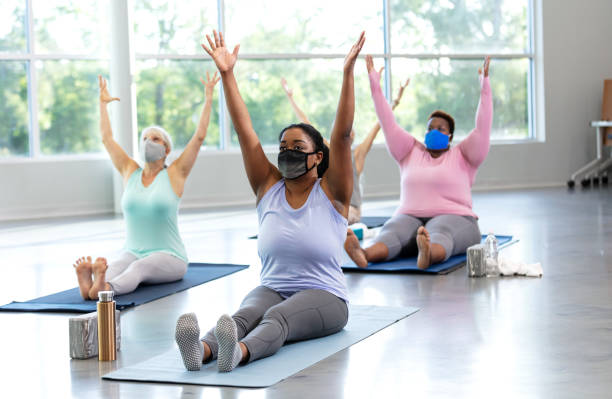with mask: (275, 123, 321, 179), (139, 124, 170, 165), (425, 116, 453, 153)
